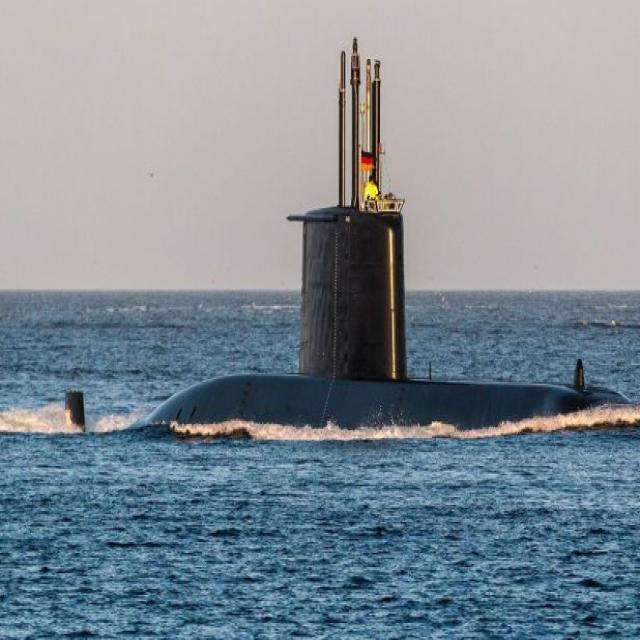submarine: (63, 29, 640, 427)
